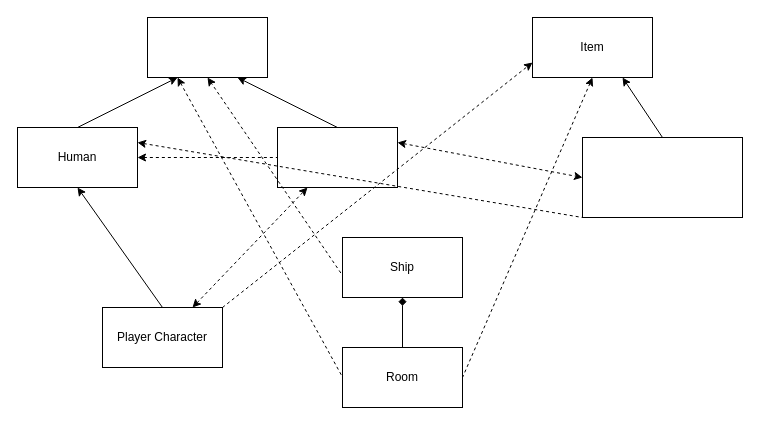
Some shapes in this 760 by 425 pixel diagram are drawn without their labels. Each missing label, with the box of its shape:
Alien: (276, 126, 398, 188)
Flashlight, Gun, Bell, etc...: (582, 136, 742, 218)
Living thing: (146, 16, 268, 78)
